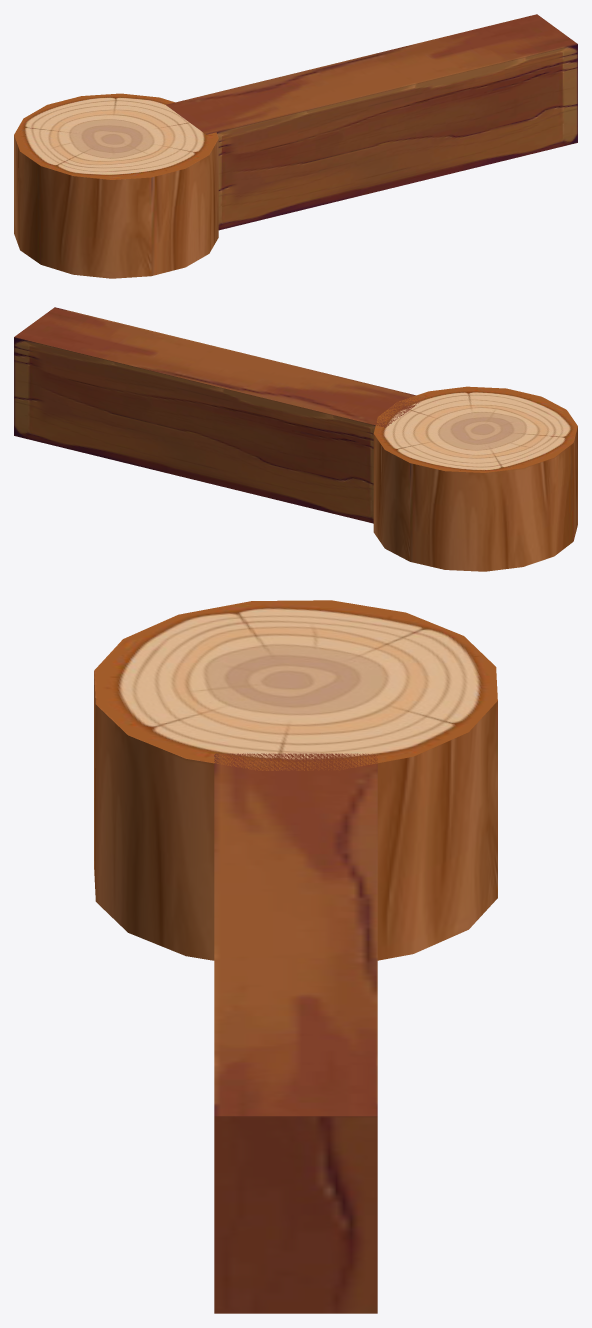
Rendered from one_blade_wood_02.fbx.
3 renders of one model, top to bottom at view 1: azimuth 30°, elevation 25°; view 2: azimuth 150°, elevation 25°; view 3: azimuth 270°, elevation 25°, orthographic. The views are drawn at different scales.
Parts seen in each view (by area): view 1: Blade_47, wood_center_6; view 2: Blade_47, wood_center_6; view 3: wood_center_6, Blade_47.
Boxes of the visible parts, x1,y1,x2,y2 form: Blade_47: (166,14,577,230); wood_center_6: (14,93,218,278); Blade_47: (14,307,425,523); wood_center_6: (373,386,577,571); wood_center_6: (94,600,497,960); Blade_47: (214,753,377,1313).
Bounding box in the file's own units: 224 × 40 × 74.15.
